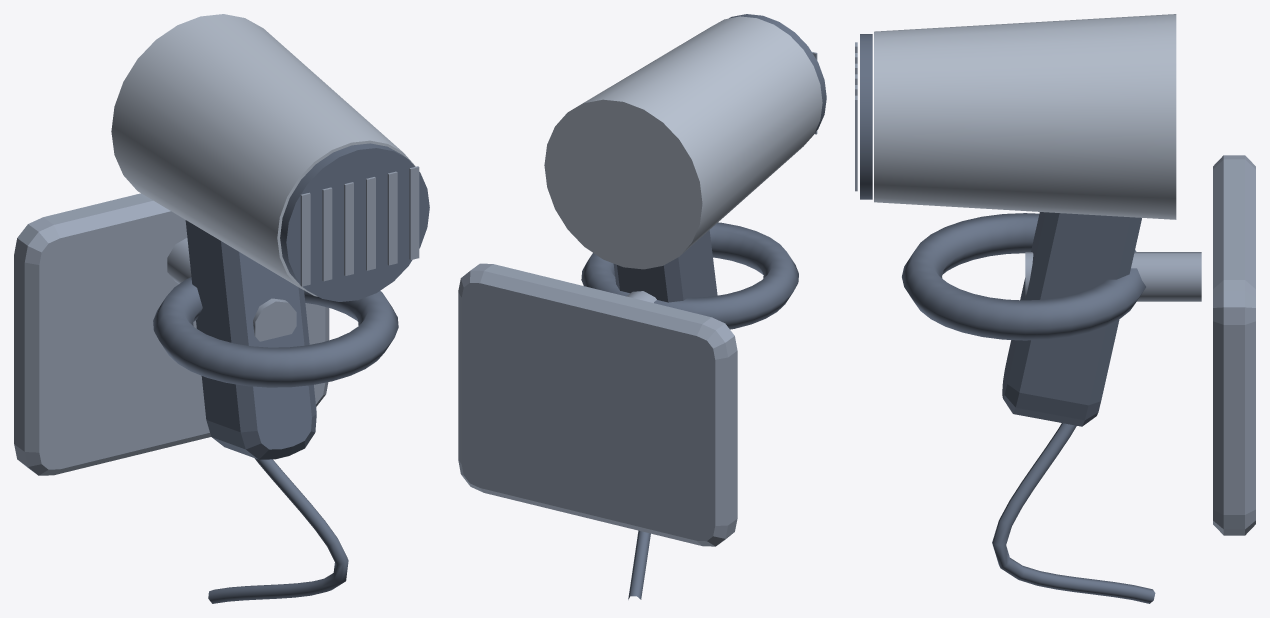
File: hairdryer-holder.glb
3 renders of one model, left to right at view 1: azimuth 30°, elevation 25°; view 2: azimuth 150°, elevation 25°; view 3: azimuth 270°, elevation 25°, orthographic. The views are drawn at different scales.
Visible parts, largest first — view 1: body, dark, soft; view 2: body, soft, dark; view 3: soft, dark, body.
Part boxes in pixels (<box>): body: <box>14,166,419,475</box>; dark: <box>153,143,429,603</box>; soft: <box>111,14,415,296</box>; body: <box>458,52,817,546</box>; soft: <box>544,16,822,269</box>; dark: <box>581,14,826,599</box>; soft: <box>874,14,1176,219</box>; dark: <box>860,34,1155,603</box>; body: <box>855,42,1255,535</box>.
Bounding box in the file's own units: 0.14 × 0.2535 × 0.159.
